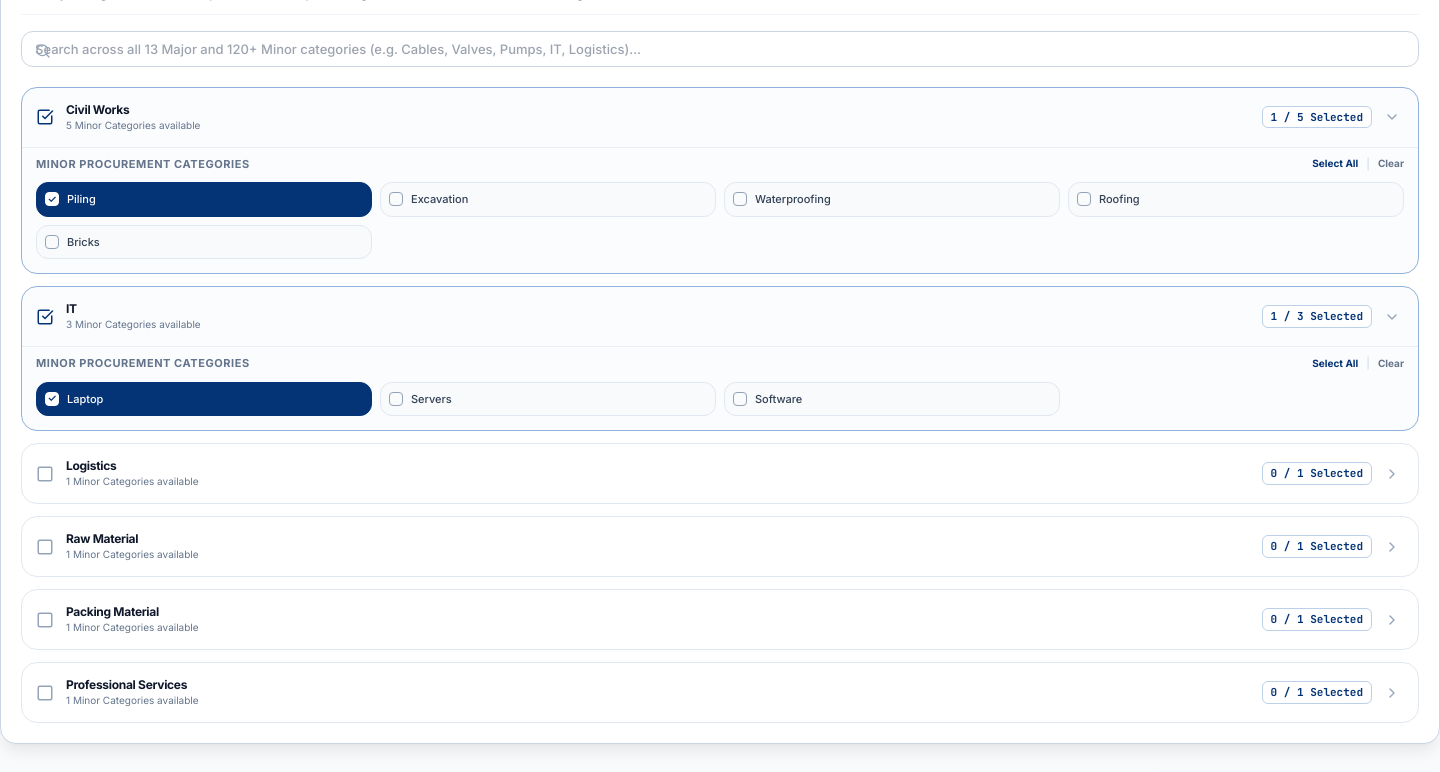
Scenario: app/buyer/buyer-profile.tsx › toggles a minor category, deselecting its major when the last one is cleared
(page scrolled)
Step 1. Click the text "Laptop" → (85, 399), box [67,390,103,407]
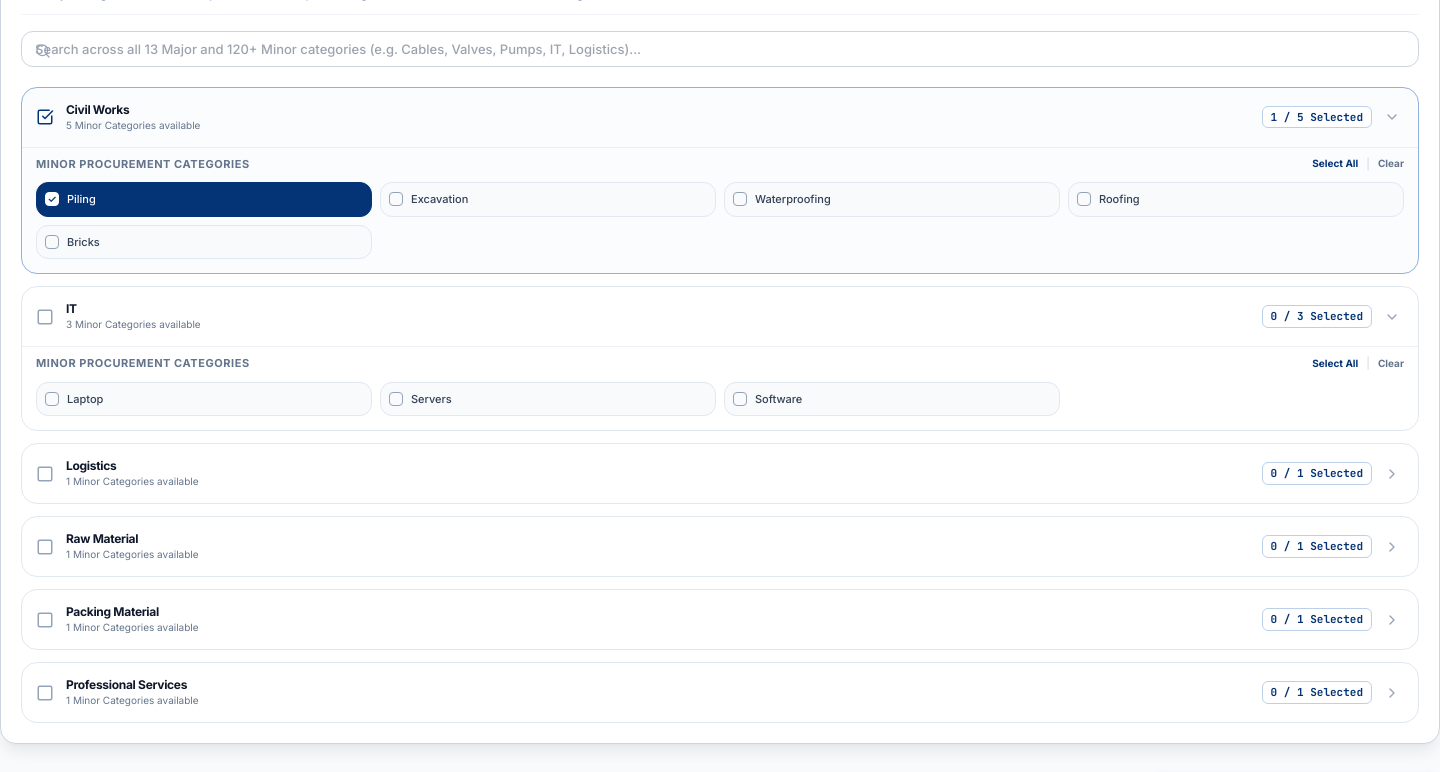
Re-selecting re-adds the major.
Step 2. Click the text "Laptop" → (85, 399), box [67,390,103,407]
(page scrolled)
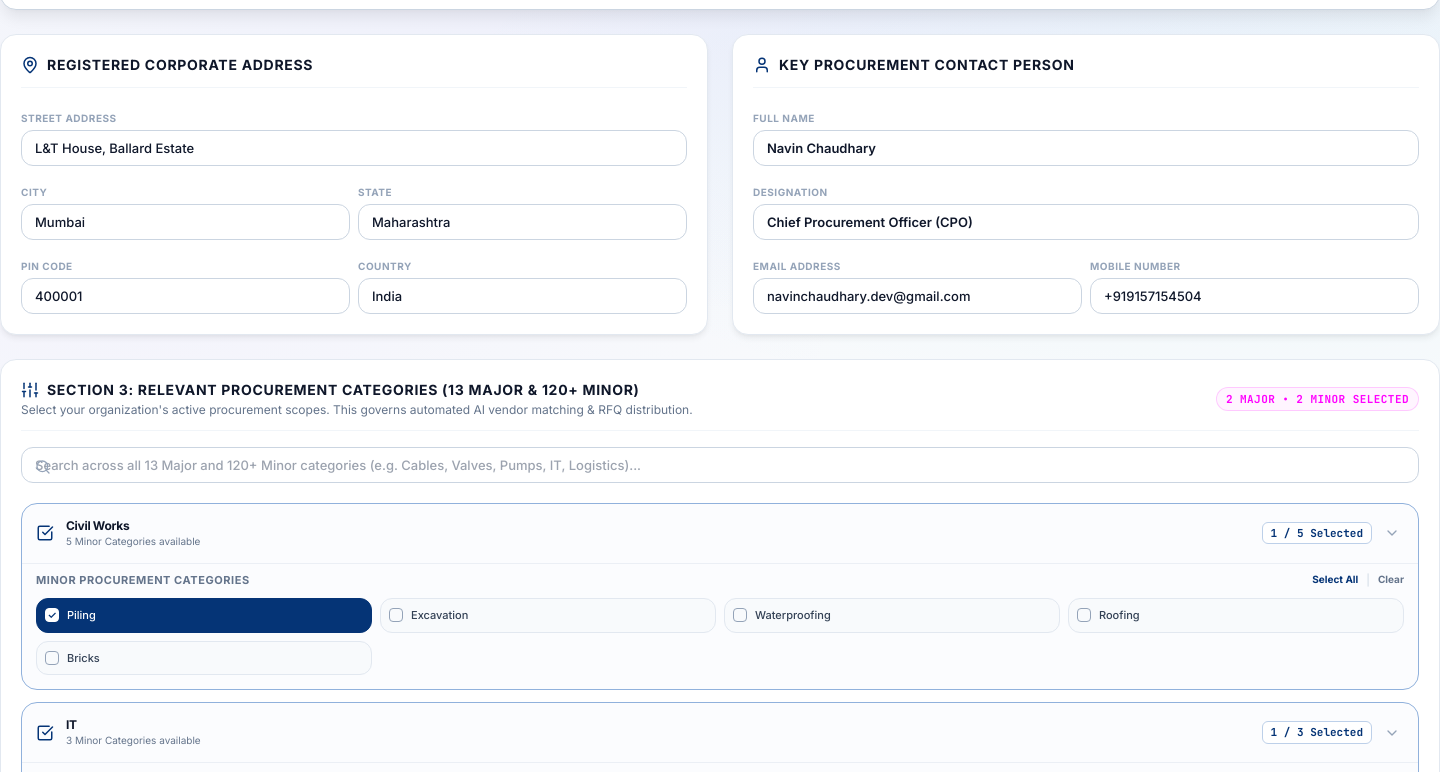
Check: the text with class "font-mono" reads "2 Major • 2 Minor Selected", box [1216,386,1419,410]
